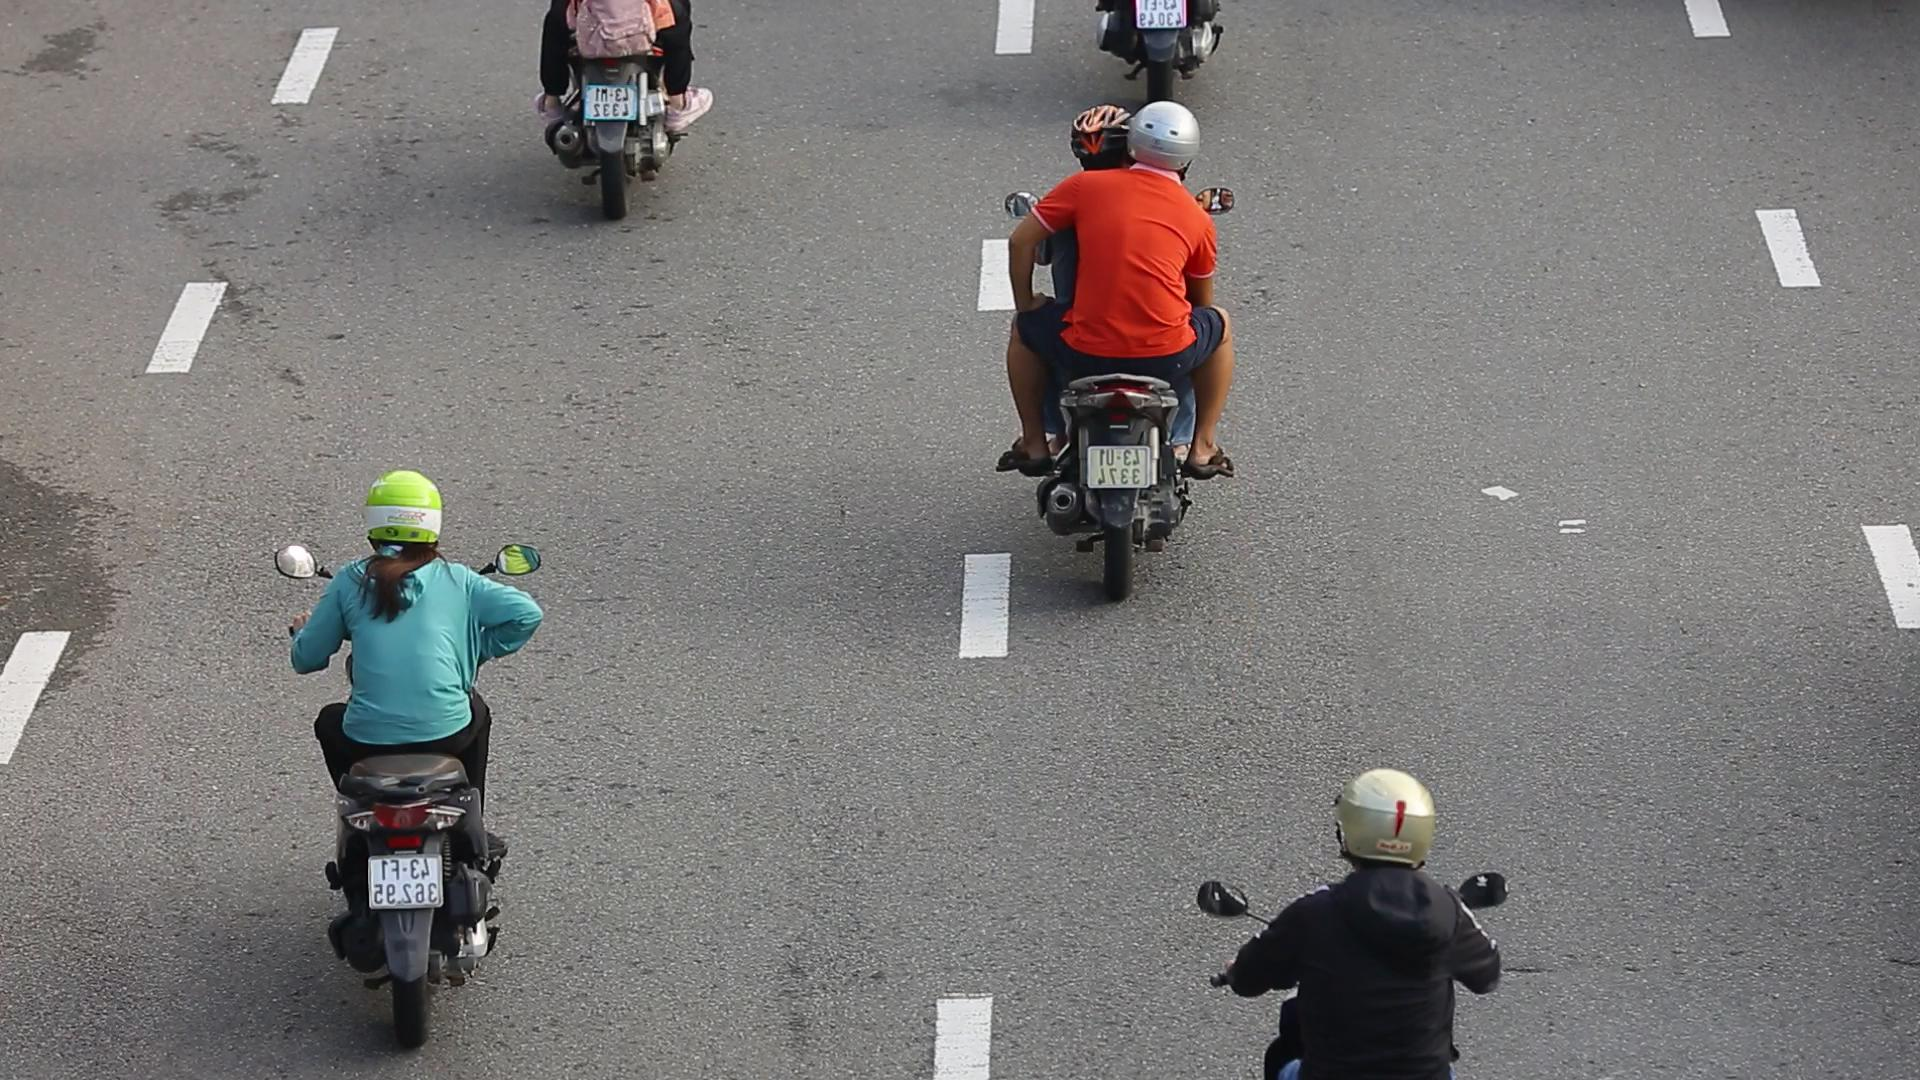motobike: (276, 464, 560, 1058), (982, 90, 1238, 596)
